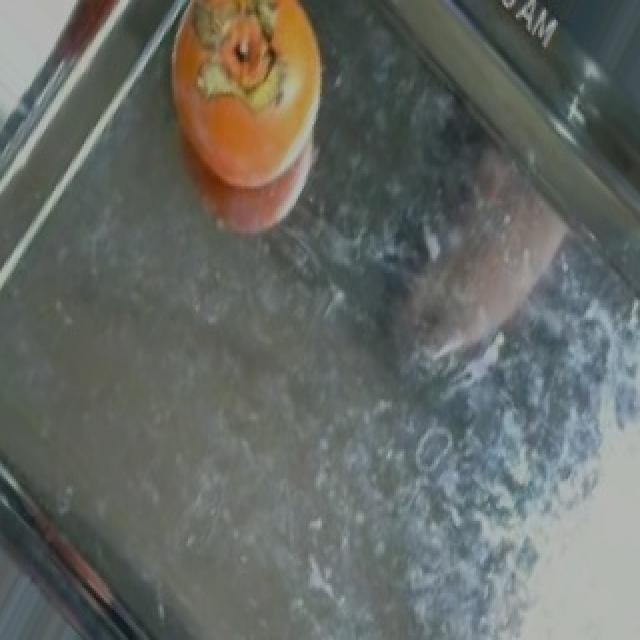Fruit: (144, 2, 348, 258)
